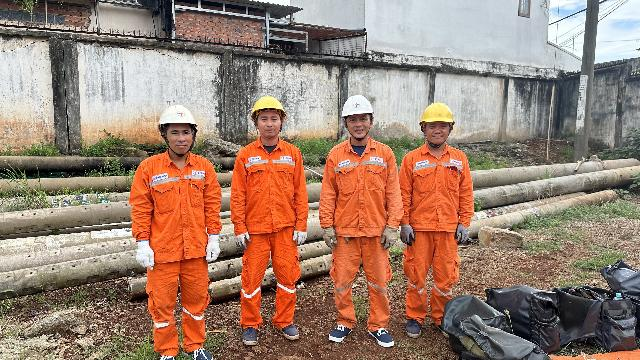gloves: (129, 235, 167, 279), (202, 235, 230, 264), (373, 220, 396, 250), (319, 223, 340, 252), (450, 223, 473, 249), (230, 230, 255, 252), (396, 221, 416, 245), (292, 227, 316, 246)
helmet: (156, 98, 208, 133), (240, 91, 292, 123), (332, 92, 378, 123), (417, 97, 458, 130)
shoes: (366, 323, 401, 351), (402, 312, 428, 345), (236, 320, 262, 351), (325, 316, 352, 345), (184, 337, 216, 360), (278, 318, 307, 340), (431, 318, 451, 340), (157, 350, 174, 360)
